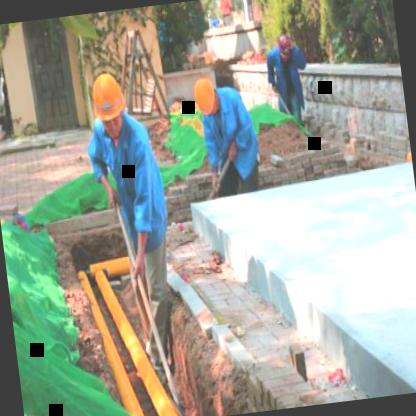helmet: (86, 64, 129, 137), (186, 73, 217, 117), (274, 29, 296, 64)
